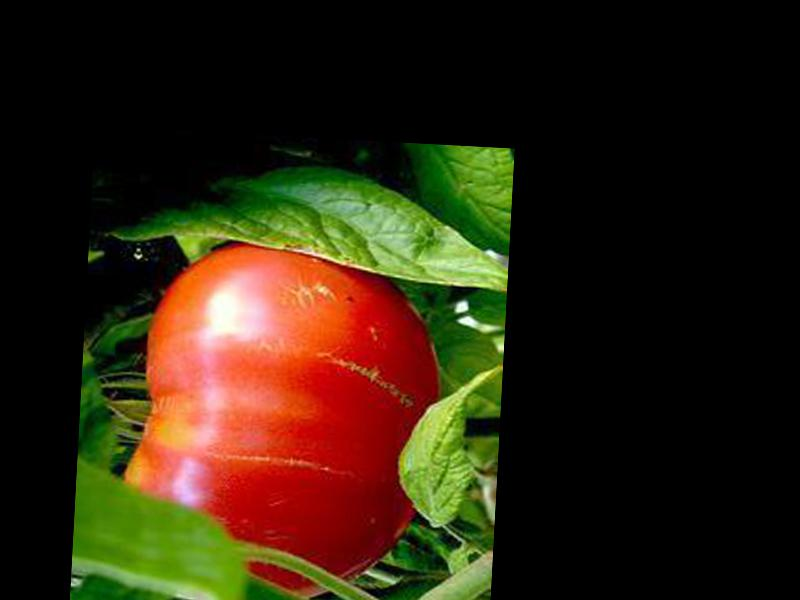Tomato: (116, 234, 445, 600)
